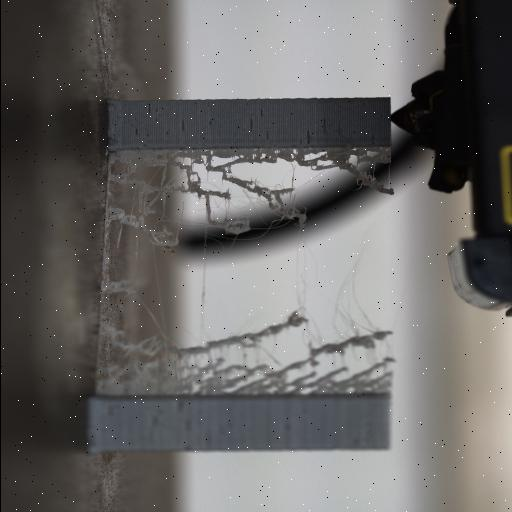stringing: (108, 136, 392, 256), (97, 302, 396, 400)
